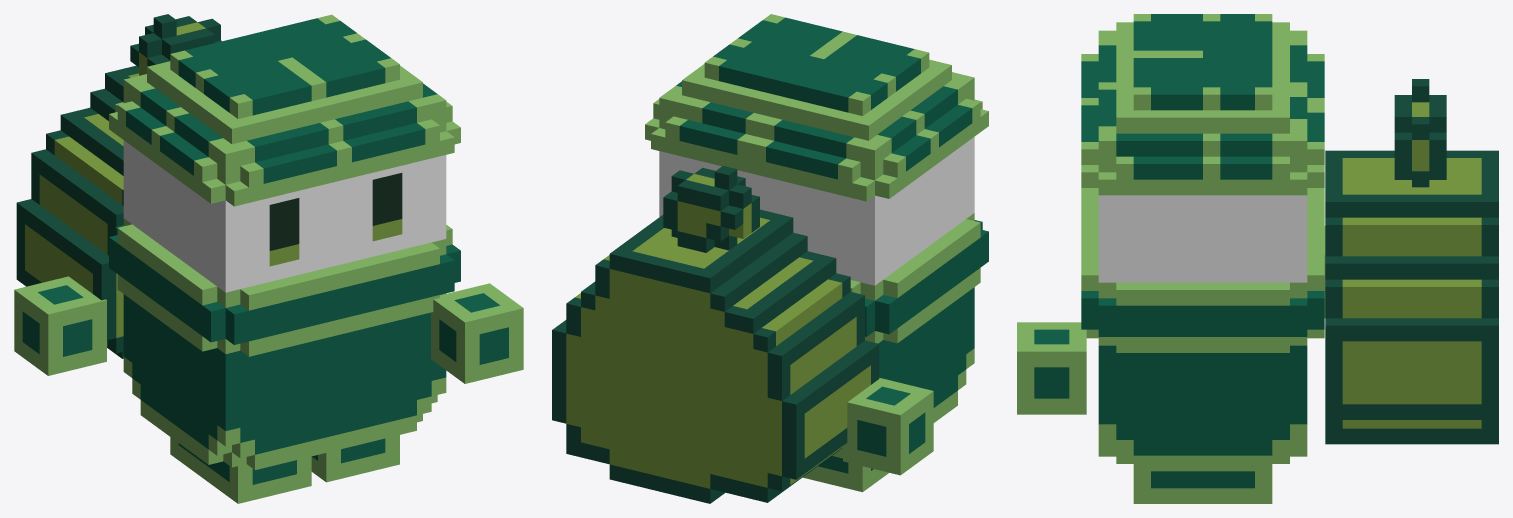
The model's file is p2SegGrab.gltf.
The picture shows the model from 3 angles, left to right: view 1: azimuth 30°, elevation 25°; view 2: azimuth 150°, elevation 25°; view 3: azimuth 270°, elevation 25°; orthographic projection. The views are drawn at different scales.
Parts seen in each view (by area): view 1: Object_0.001, Object_0.004, Object_0, Object_0.003; view 2: Object_0.004, Object_0.001, Object_0.003; view 3: Object_0.001, Object_0.004, Object_0.
Part boxes in pixels (<box>): Object_0.001: <box>109,14,460,503</box>; Object_0.004: <box>16,14,221,358</box>; Object_0: <box>431,283,523,383</box>; Object_0.003: <box>14,276,106,375</box>; Object_0.004: <box>552,166,879,503</box>; Object_0.001: <box>645,14,988,492</box>; Object_0.003: <box>843,378,933,475</box>; Object_0.001: <box>1081,14,1324,503</box>; Object_0.004: <box>1325,79,1498,444</box>; Object_0: <box>1017,322,1086,414</box>.
Size of the model in its own units: 2.22 by 2.6 by 2.77.
Materials: 4 (4 with a texture image).
